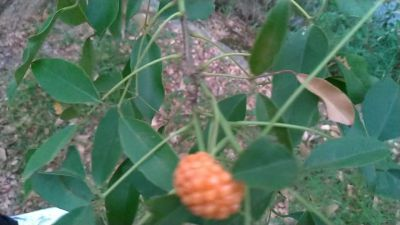eggs: (174, 149, 243, 219)
